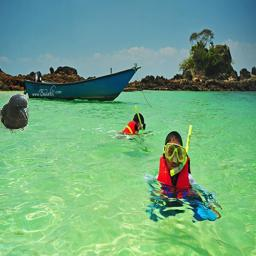Crow: (0, 94, 29, 133)
